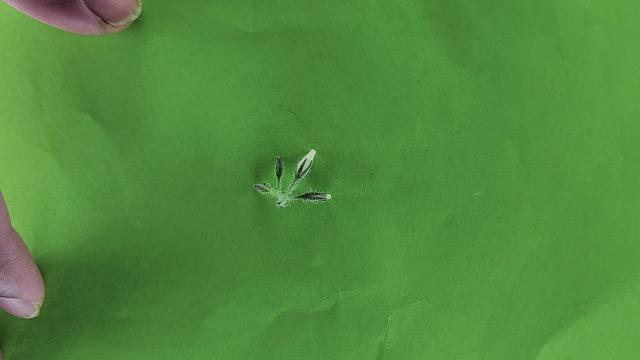Flower Bud: (292, 148, 316, 186), (294, 191, 331, 201), (253, 182, 271, 193), (275, 156, 283, 180)
